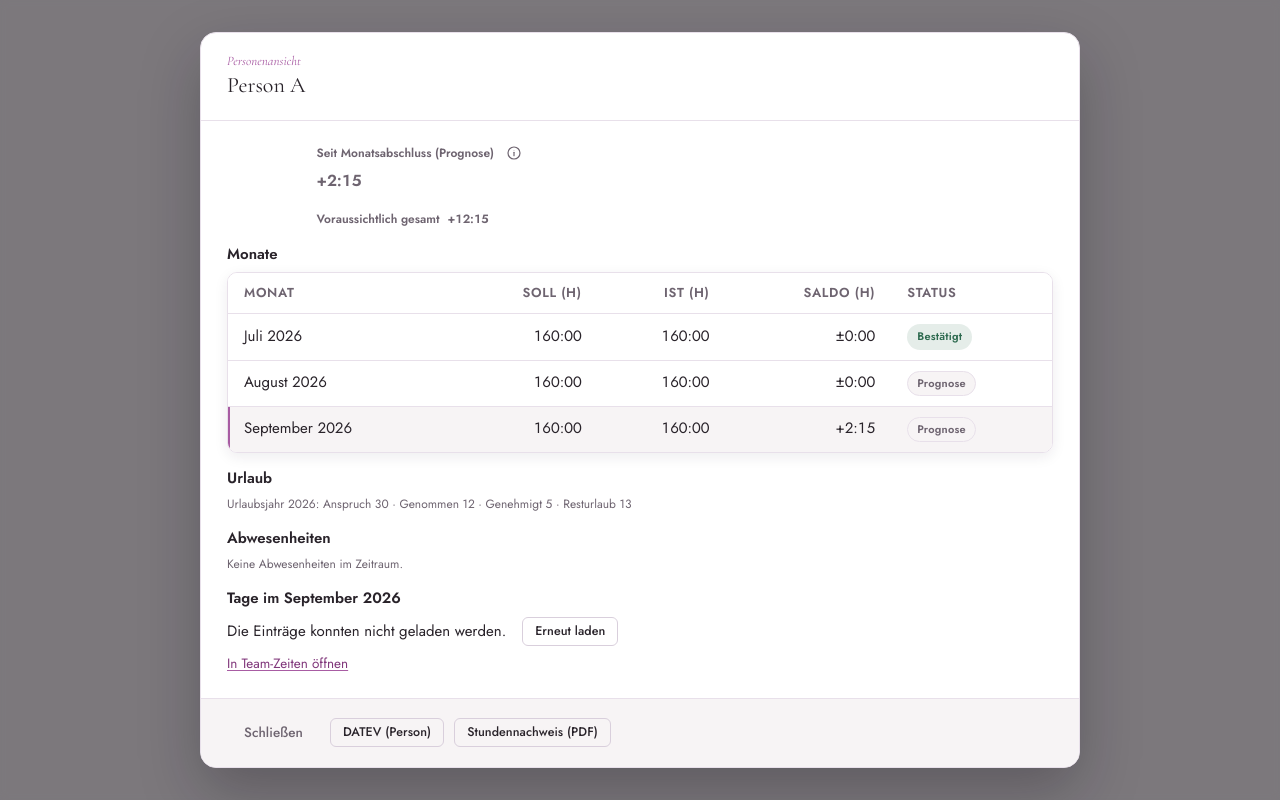
Test: PersonDrilldown - the day list (only with time-entry:read) › a failed read shows the error with Erneut laden, which asks again
(page scrolled)
Check: the text "Die Einträge konnten nicht geladen werden." is shown, box 227,619 -> 506,644
Click the button "Erneut laden" at [570, 631], box 522,617 -> 618,646
(page scrolled)
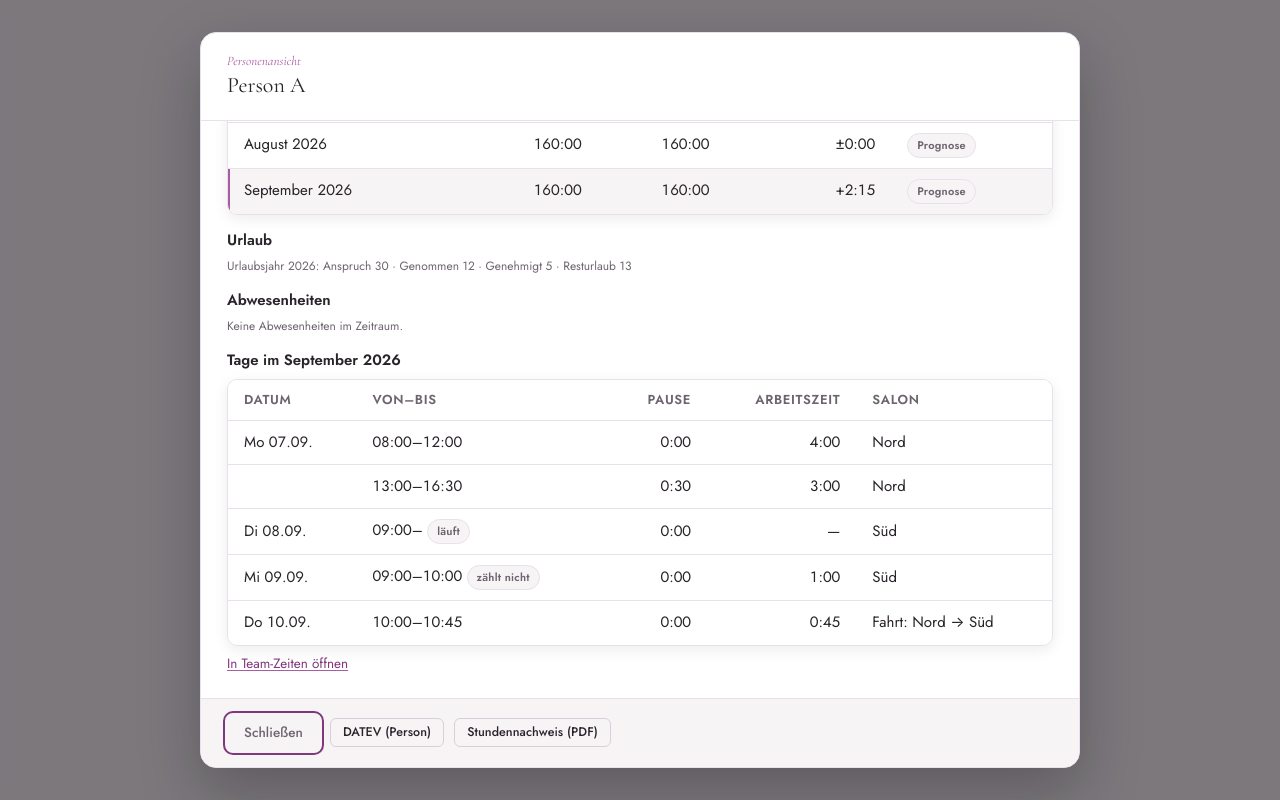
Check: the table named "Tage im September 2026" is shown, box 228,380 -> 1052,645
